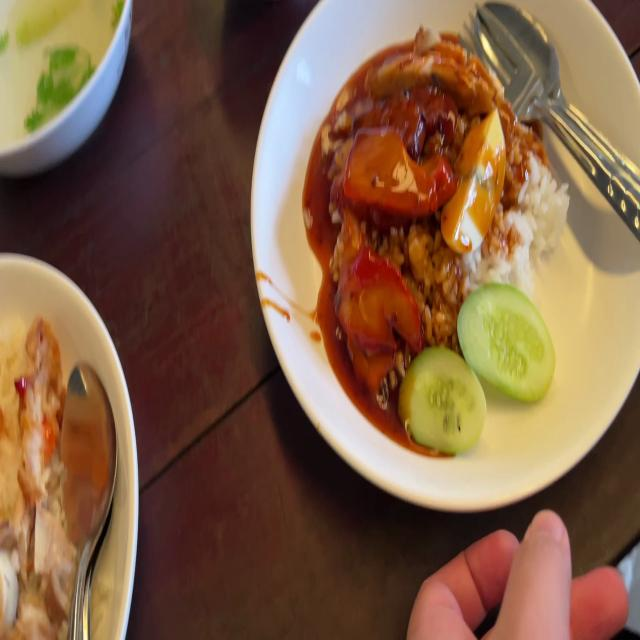01boiled_egg: (445, 115, 501, 253)
01chainese_sausage: (362, 82, 453, 145)
01crispy_pork: (377, 35, 502, 114)
01red_pork: (338, 246, 412, 388), (353, 137, 452, 216)
01red_pork_and_crispy_pork: (321, 49, 557, 453)
boiled_chicken: (0, 476, 85, 639)
chicken_rice: (0, 308, 109, 635)
cucumber: (465, 290, 546, 390), (405, 356, 483, 442)
fried_chicken: (5, 306, 73, 490)
